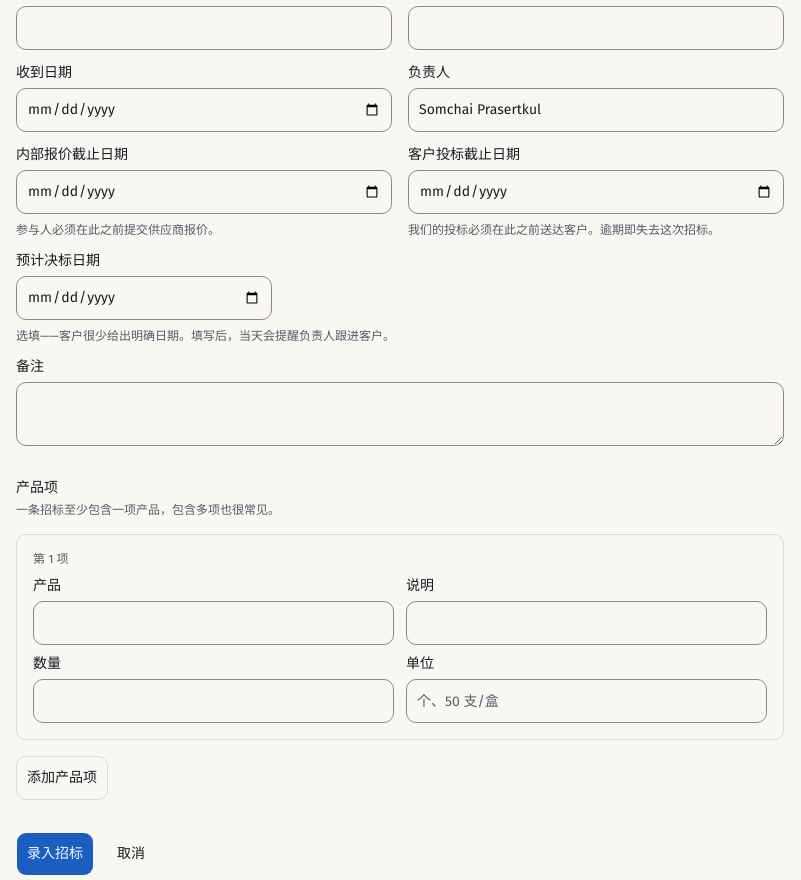
Test: gives the per-row Remove a thumb-sized target: in zh-Hans
The width and height of the screenshot is (801, 880).
(page scrolled)
What coordinates should you click on to do the following:
click the button "添加产品项"
I would click on:
 (62, 778)
Its box is x1=16 y1=756 x2=108 y2=800.
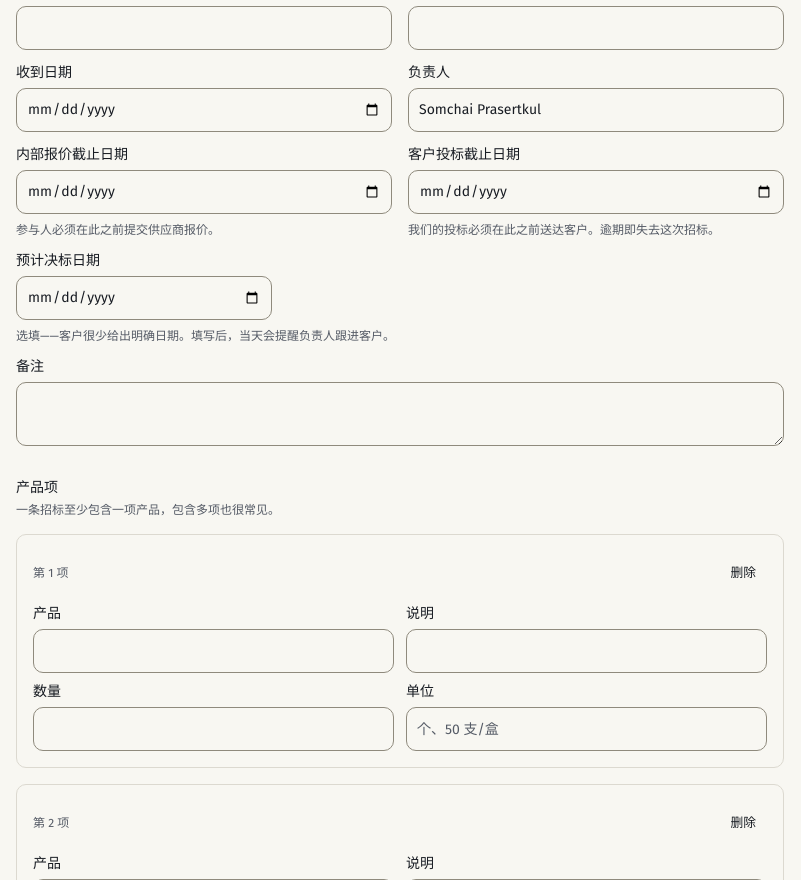
Now the number of buttons "删除" is 2, box x1=719 y1=551 x2=767 y2=595; x1=719 y1=801 x2=767 y2=845
